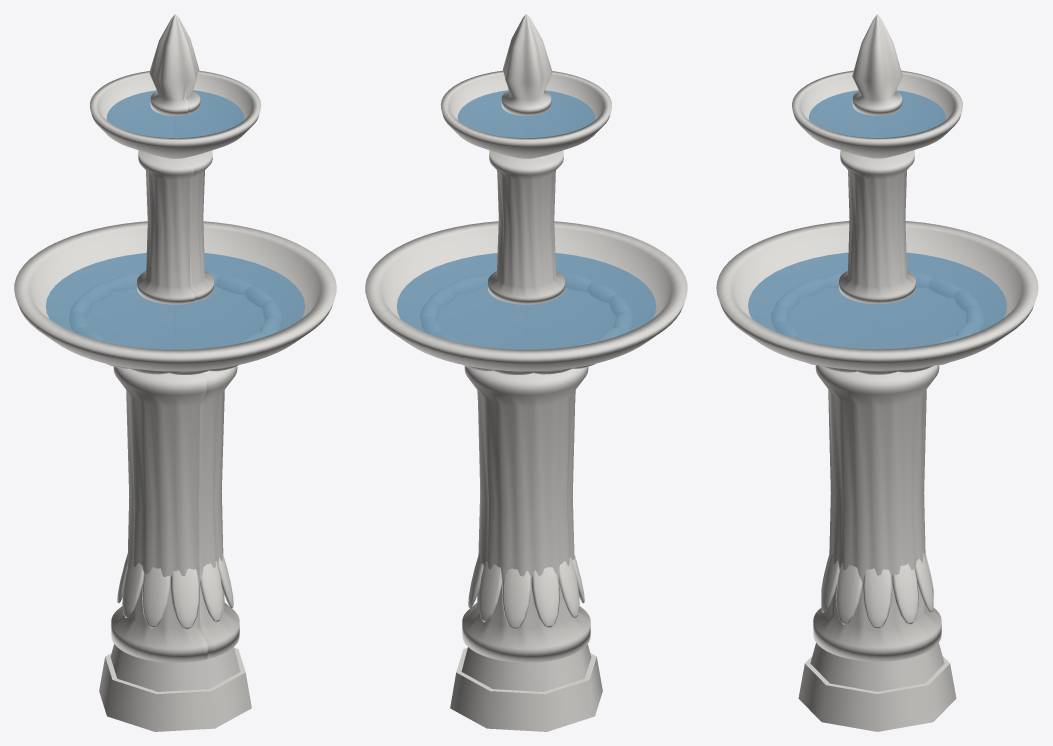
3 renders of one model, left to right at view 1: azimuth 30°, elevation 25°; view 2: azimuth 150°, elevation 25°; view 3: azimuth 270°, elevation 25°, orthographic.
Parts seen in each view (by area): view 1: col-col-1, basin-basin-2, eau-basin-2, col-col-3, base-base-0, basin-basin-4, eau-basin-4, flame-flame-5, base-base-0-b, leaf-col-1-3, leaf-col-1-4, leaf-col-1-2 (+1 smaller); view 2: col-col-1, basin-basin-2, eau-basin-2, col-col-3, base-base-0, basin-basin-4, eau-basin-4, flame-flame-5, base-base-0-b, leaf-col-1-7, leaf-col-1-6, leaf-col-1-8 (+1 smaller); view 3: col-col-1, basin-basin-2, eau-basin-2, col-col-3, base-base-0, basin-basin-4, eau-basin-4, base-base-0-b, flame-flame-5, leaf-col-1-0, leaf-col-1-1, leaf-col-1-9 (+2 smaller).
Boxes of the visible parts, x1=… form: col-col-1: x1=111, y1=366, x2=239, y2=662; basin-basin-2: x1=14, y1=221, x2=336, y2=371; eau-basin-2: x1=45, y1=253, x2=305, y2=349; col-col-3: x1=137, y1=150, x2=213, y2=304; base-base-0: x1=99, y1=648, x2=251, y2=731; basin-basin-4: x1=90, y1=70, x2=261, y2=158; eau-basin-4: x1=106, y1=90, x2=244, y2=138; flame-flame-5: x1=149, y1=14, x2=200, y2=115; base-base-0-b: x1=110, y1=644, x2=240, y2=691; leaf-col-1-3: x1=170, y1=568, x2=199, y2=629; leaf-col-1-4: x1=142, y1=567, x2=170, y2=628; leaf-col-1-2: x1=200, y1=561, x2=222, y2=622; col-col-1: x1=462, y1=366, x2=590, y2=662; basin-basin-2: x1=365, y1=221, x2=687, y2=371; eau-basin-2: x1=396, y1=253, x2=656, y2=349; col-col-3: x1=488, y1=150, x2=564, y2=304; base-base-0: x1=450, y1=648, x2=602, y2=731; basin-basin-4: x1=440, y1=70, x2=611, y2=158; eau-basin-4: x1=457, y1=90, x2=595, y2=138; flame-flame-5: x1=501, y1=14, x2=552, y2=115; base-base-0-b: x1=461, y1=644, x2=591, y2=691; leaf-col-1-7: x1=502, y1=568, x2=531, y2=629; leaf-col-1-6: x1=531, y1=567, x2=559, y2=628; leaf-col-1-8: x1=479, y1=561, x2=502, y2=622; col-col-1: x1=813, y1=365, x2=941, y2=661; basin-basin-2: x1=716, y1=221, x2=1038, y2=370; eau-basin-2: x1=748, y1=252, x2=1006, y2=349; col-col-3: x1=839, y1=150, x2=915, y2=304; base-base-0: x1=798, y1=656, x2=956, y2=731; basin-basin-4: x1=792, y1=70, x2=962, y2=158; eau-basin-4: x1=808, y1=90, x2=946, y2=137; base-base-0-b: x1=810, y1=643, x2=944, y2=691; flame-flame-5: x1=852, y1=14, x2=902, y2=115; leaf-col-1-0: x1=862, y1=568, x2=892, y2=629; leaf-col-1-1: x1=836, y1=563, x2=862, y2=624; leaf-col-1-9: x1=892, y1=564, x2=918, y2=624.
Size of the model in its own units: 0.64 by 1.5 by 0.64.
